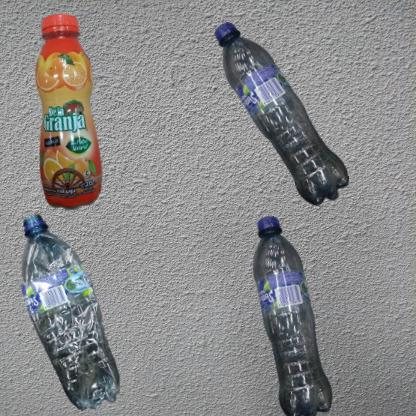botella: (213, 213, 388, 416), (213, 10, 358, 226), (10, 10, 141, 236), (10, 213, 135, 416)
